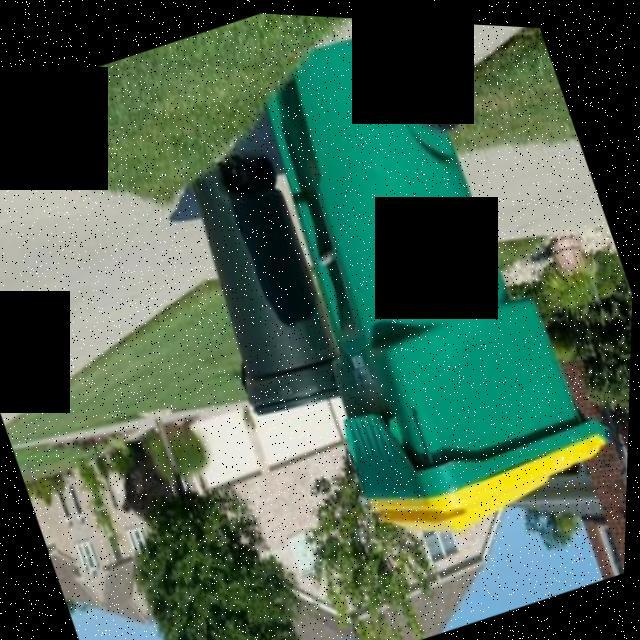bin: (202, 9, 637, 565), (156, 128, 372, 437)
